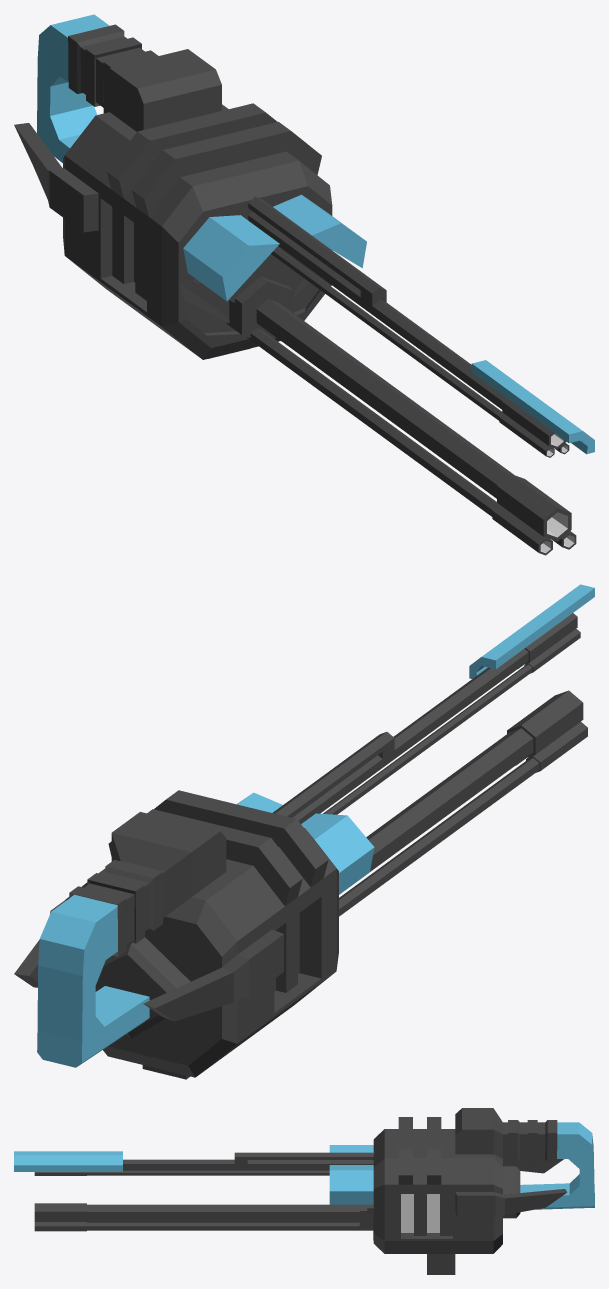
File: TurretFireMeshHead.fbx
3 views of the same model, one above another, from view 1: azimuth 30°, elevation 25°; view 2: azimuth 150°, elevation 25°; view 3: azimuth 270°, elevation 25° (orthographic). The views are drawn at different scales.
Visible parts, largest first — view 1: Cylinder; view 2: Cylinder; view 3: Cylinder.
Boxes of the visible parts, x1,y1,x2,y2 form: Cylinder: (14,14,594,555); Cylinder: (14,584,594,1079); Cylinder: (14,1108,594,1274).
Bounding box in the file's own units: 46.37 × 58.45 × 213.
